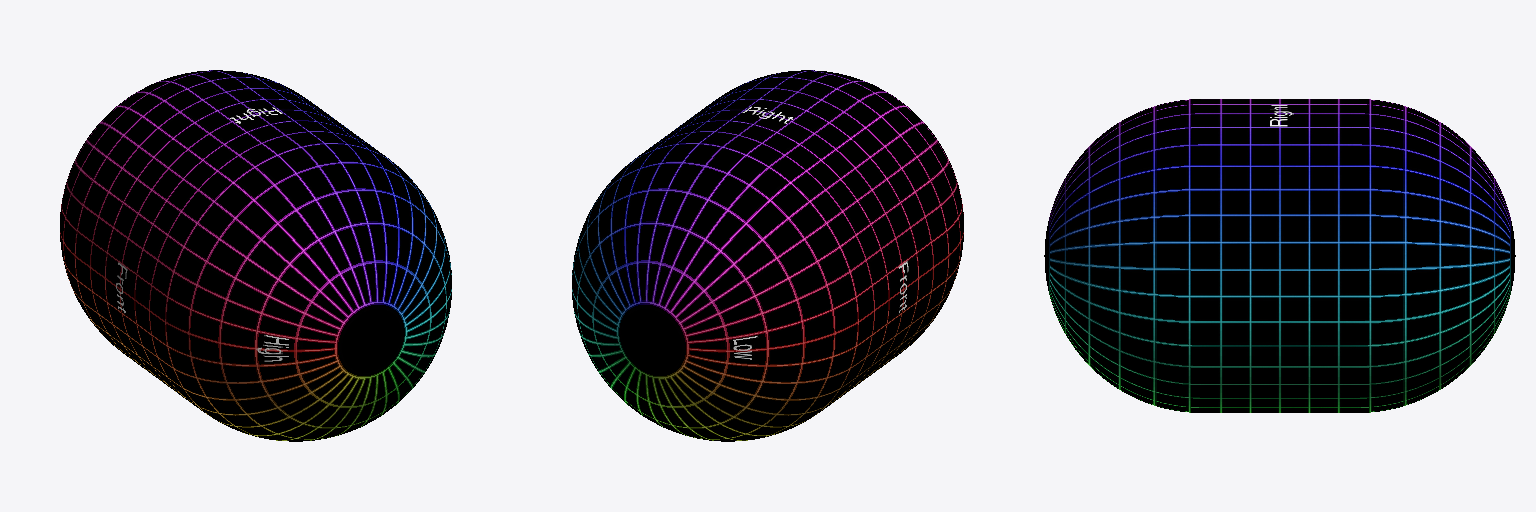
3 renders of one model, left to right at view 1: azimuth 30°, elevation 25°; view 2: azimuth 150°, elevation 25°; view 3: azimuth 270°, elevation 25°, orthographic.
Size of the model in its own units: 2 by 2 by 3.
Materials: 1 (1 with a texture image).